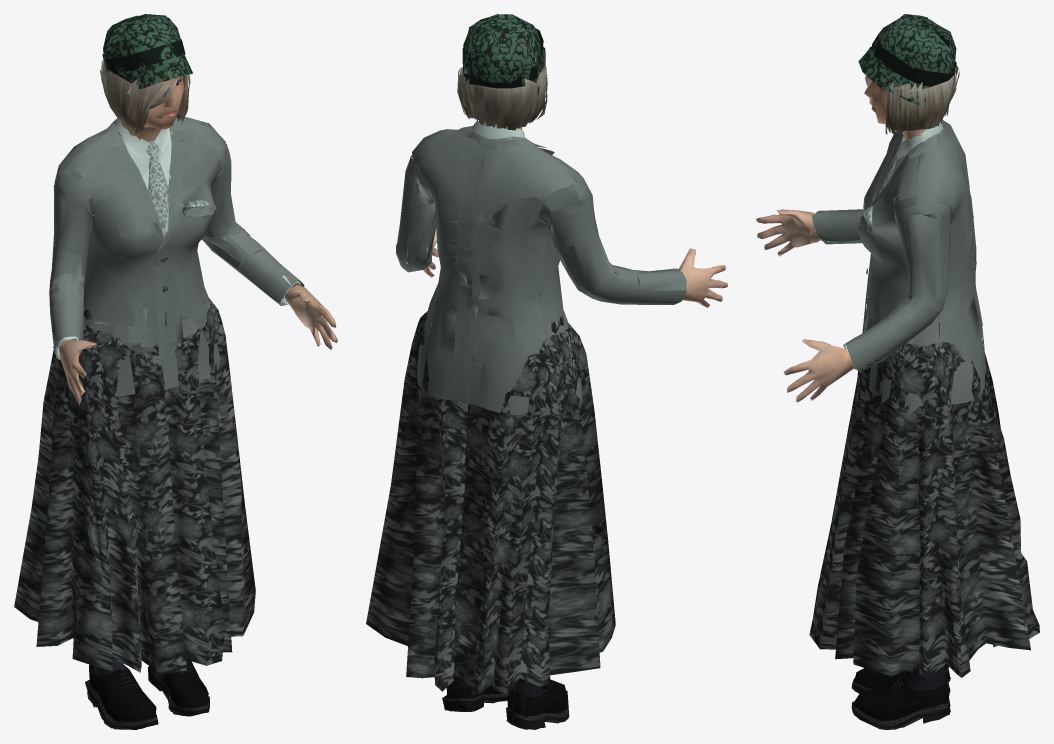
3 renders of one model, left to right at view 1: azimuth 30°, elevation 25°; view 2: azimuth 150°, elevation 25°; view 3: azimuth 270°, elevation 25°, orthographic.
Parts seen in each view (by area): view 1: Modell; view 2: Modell; view 3: Modell.
Boxes of the visible parts, x1,y1,x2,y2 form: Modell: (14,14,337,729); Modell: (366,14,727,729); Modell: (756,14,1039,729).
Size of the model in its own units: 0.6844 by 1.65 by 0.6207.
Materials: 8 (8 with a texture image).
